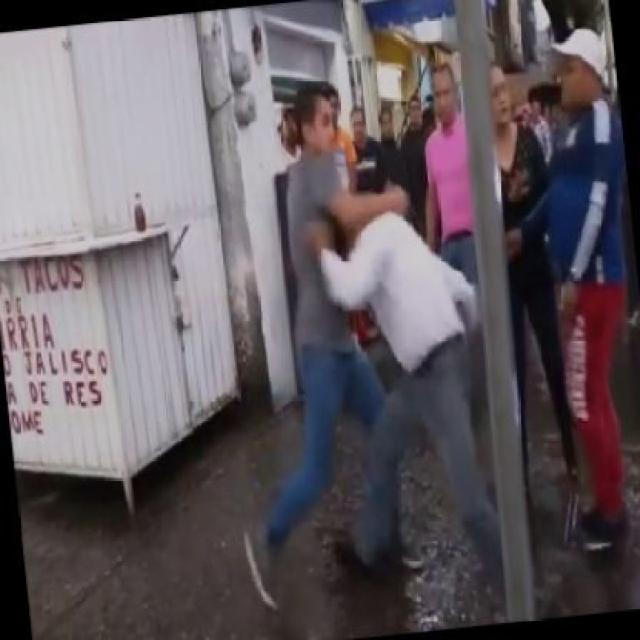fight: (242, 87, 506, 637)
non-fight: (544, 1, 638, 574)
